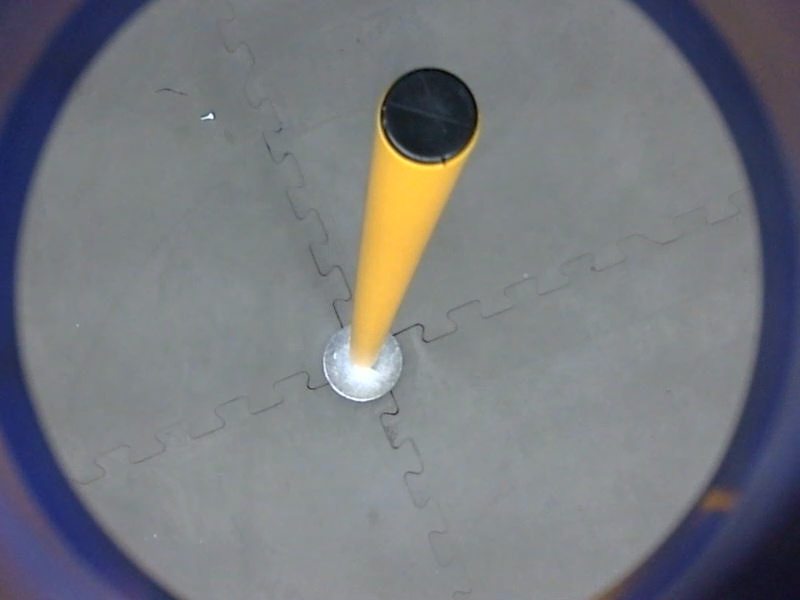tip: (370, 63, 486, 170)
